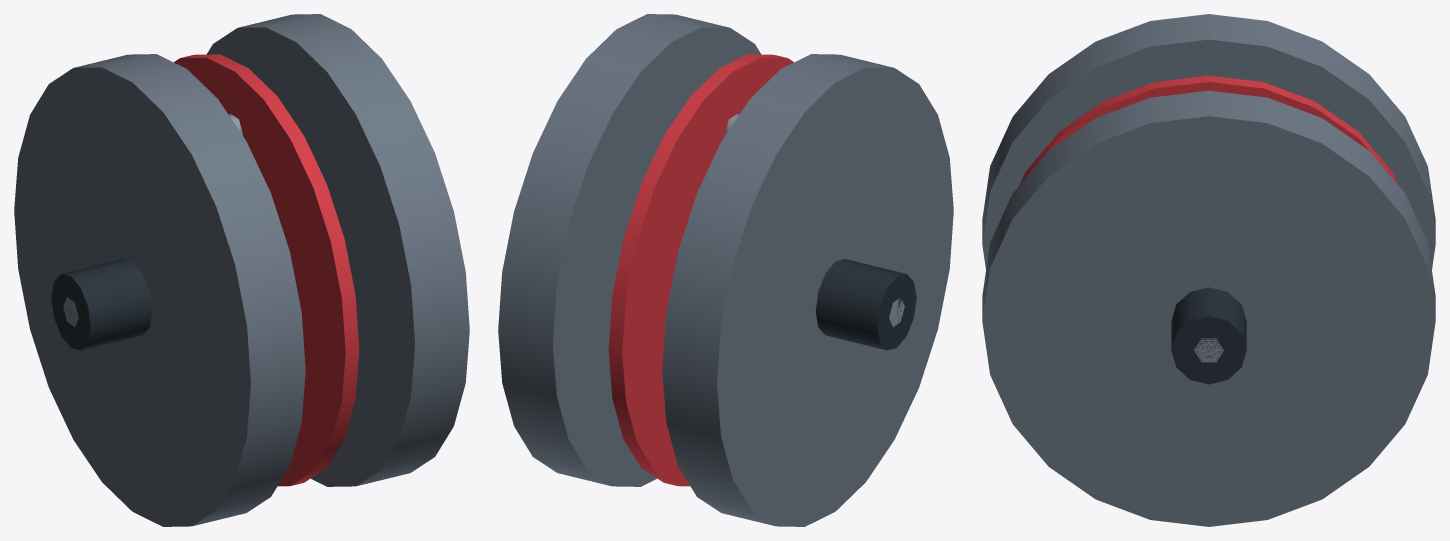
File: clutch.glb
3 renders of one model, left to right at view 1: azimuth 30°, elevation 25°; view 2: azimuth 150°, elevation 25°; view 3: azimuth 270°, elevation 25°, orthographic. The views are drawn at different scales.
Bounding box in the file's own units: 0.5 × 0.6 × 0.6.
